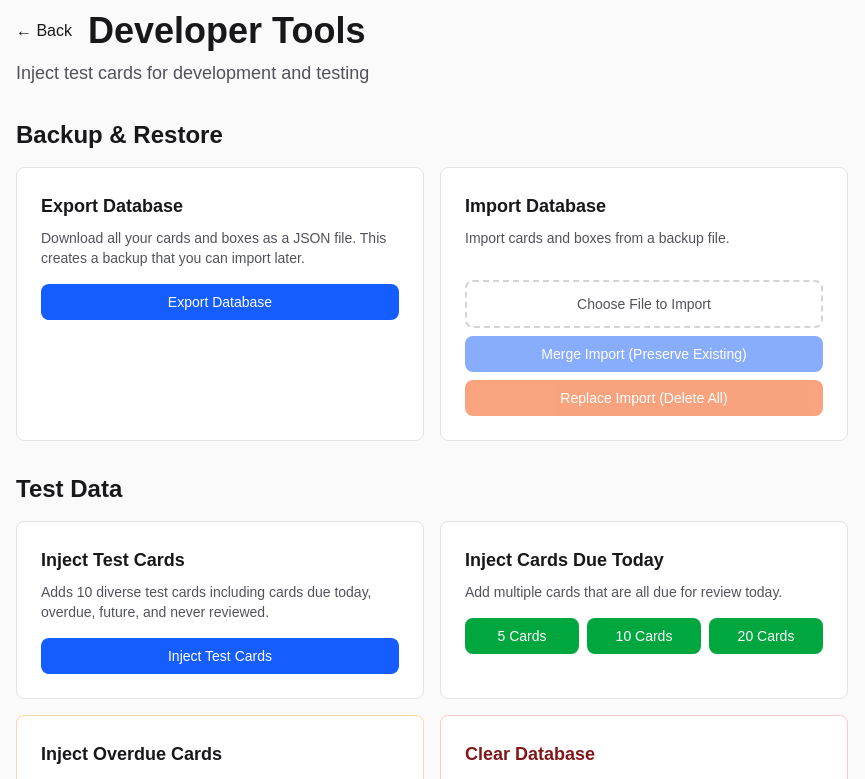
Test: Dev Tools Page › Inject Cards Due Today › should inject 5 cards when "5 Cards" button is clicked
Click the button "5 Cards" at [522, 636], box [465,618,579,654]
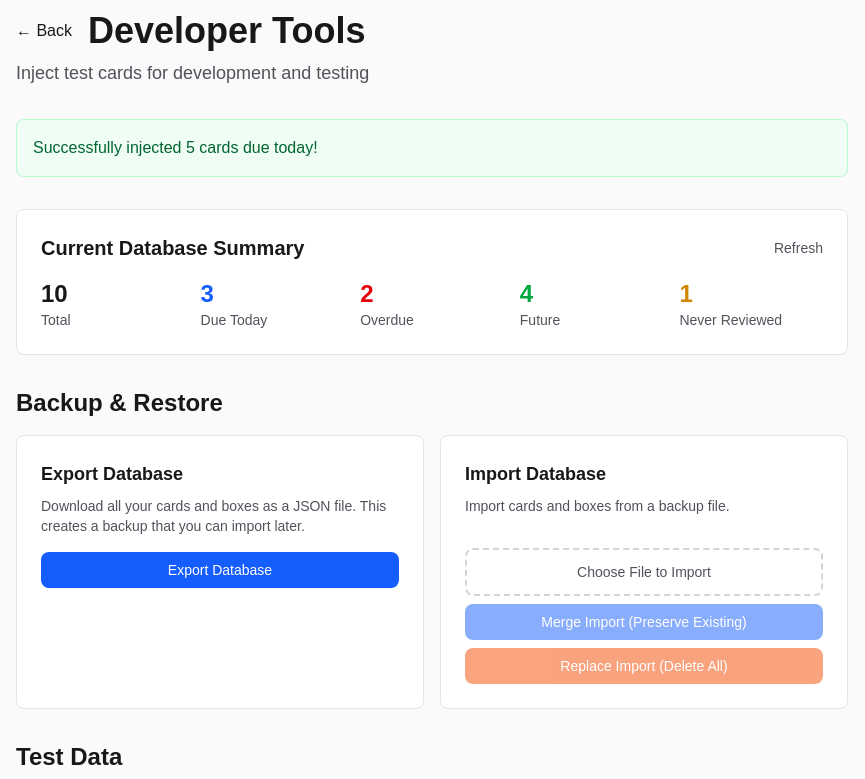
expect the text "Successfully injected 5 cards due today!" is shown: met, box [16,119,848,177]
